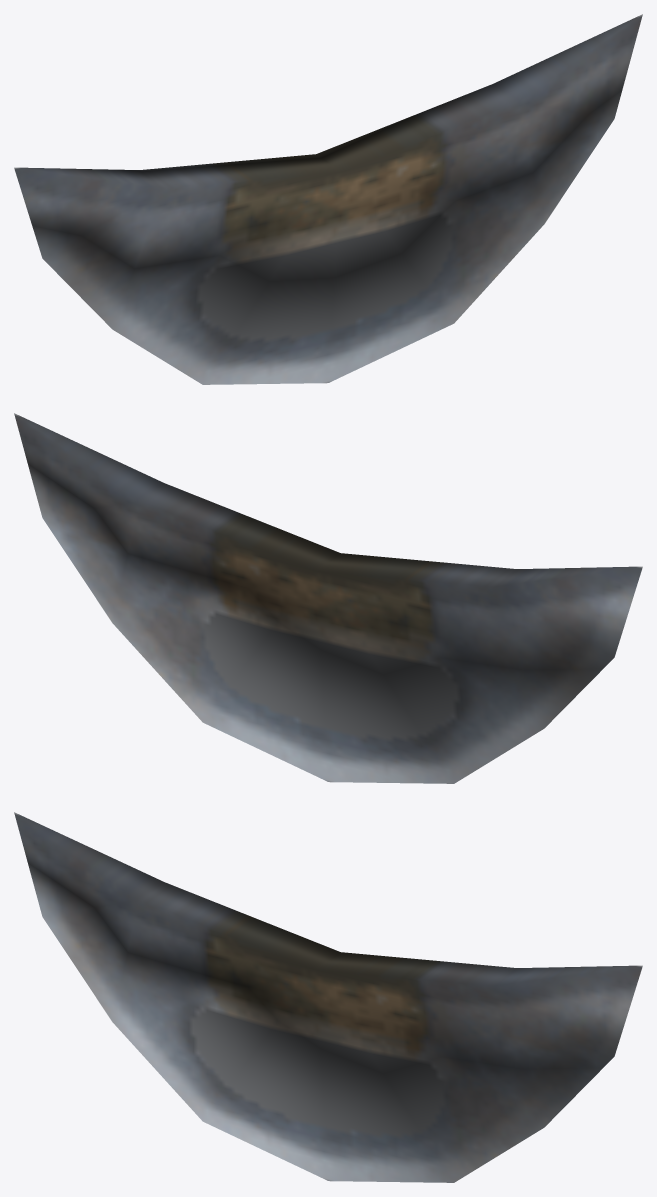
3 renders of one model, top to bottom at view 1: azimuth 30°, elevation 25°; view 2: azimuth 150°, elevation 25°; view 3: azimuth 330°, elevation 25°, orthographic.
Parts seen in each view (by area): view 1: IT91_DMSPRITEDEF_node; view 2: IT91_DMSPRITEDEF_node; view 3: IT91_DMSPRITEDEF_node.
Part boxes in pixels (x1,y1,x2,y2): IT91_DMSPRITEDEF_node: (14, 14, 642, 384); IT91_DMSPRITEDEF_node: (14, 413, 642, 783); IT91_DMSPRITEDEF_node: (14, 812, 642, 1182).
Bounding box in the file's own units: 1.64 × 0.7273 × 0.1105.
Materials: 1 (1 with a texture image).
